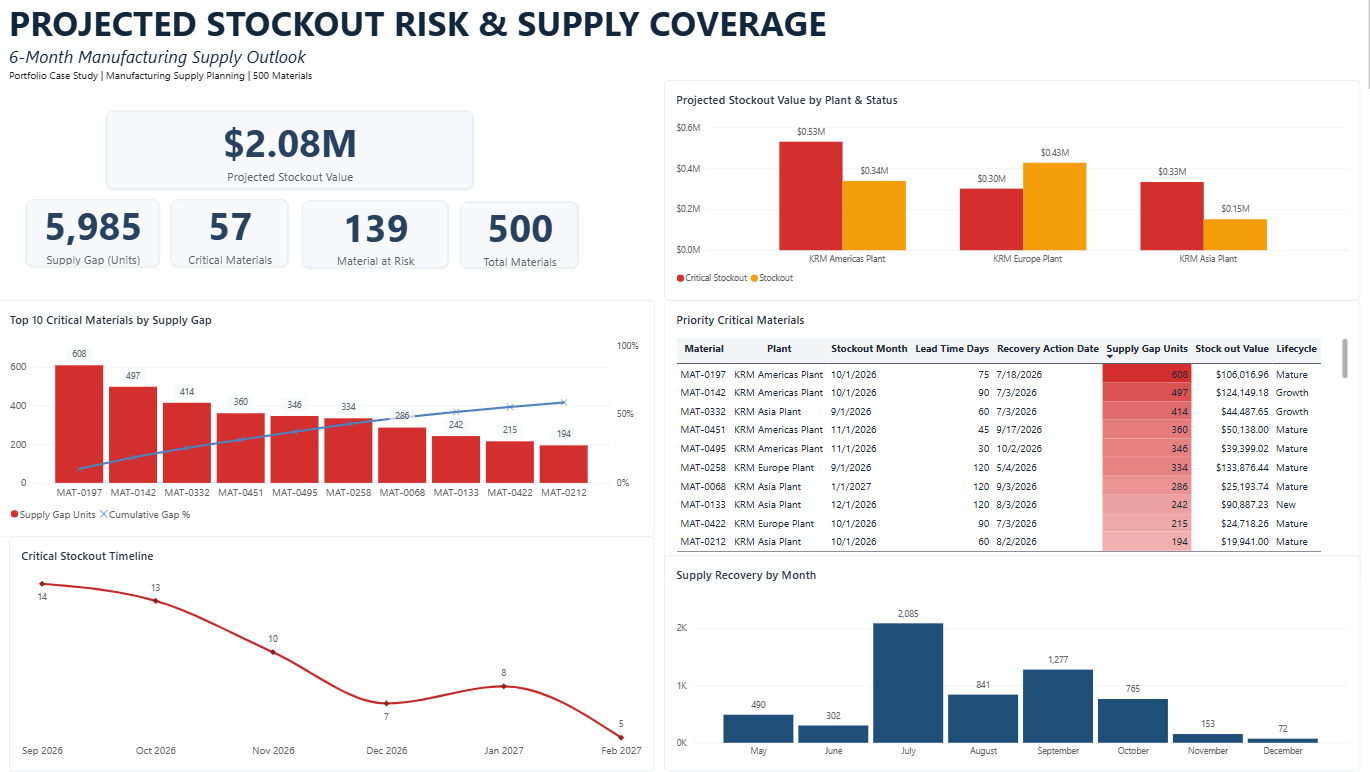

The page's visual inventory and layout, read from the dashboard file:
{"tool":"powerbi","page":{"name":"Page 1","canvas":[1920,1080],"ordinal":0},"visuals":[{"type":"cardVisual","fields":{"Data":["Count(08___Stockout_Risk_Python_Analysis.Material_ID)"]},"box":[801.7,175,223.3,90],"z":0},{"type":"cardVisual","fields":{"Data":["Sum(08___Stockout_Risk_Python_Analysis.Stockout_Value_USD)"]},"box":[1546.7,175,228.3,90],"z":1000},{"type":"cardVisual","fields":{"Data":["Sum(08___Stockout_Risk_Python_Analysis.Remaining_Shortfall_Units)"]},"box":[1300,175,188.3,90],"z":2000},{"type":"cardVisual","fields":{"Data":["Count(08___Stockout_Risk_Python_Analysis.Material_ID)"]},"box":[1081.7,175,165,90],"z":3000},{"type":"lineChart","title":"Critical Stockout Timeline","fields":{"Y":["CountNonNull(08___Stockout_Risk_Python_Analysis.Material_ID)"],"Category":["08___Stockout_Risk_Python_Analysis.First_Stockout_Month"]},"box":[15,156.7,488.3,495],"z":4000},{"type":"lineClusteredColumnComboChart","title":"Supply Gap by Critical Material","fields":{"Category":["08___Stockout_Risk_Python_Analysis.Material_ID"],"Y":["Sum(08___Stockout_Risk_Python_Analysis.Remaining_Shortfall_Units)"],"Y2":["08___Stockout_Risk_Python_Analysis.Cumulative Critical Shortfall %"]},"box":[515,286.7,848.3,365],"z":5000},{"type":"tableEx","title":"Priority Critical Materials","fields":{"Values":["08___Stockout_Risk_Python_Analysis.Material_ID","08___Stockout_Risk_Python_Analysis.Site_Name","08___Stockout_Risk_Python_Analysis.First_Stockout_Month","08___Stockout_Risk_Python_Analysis.Lead_Time_Days","08___Stockout_Risk_Python_Analysis.Recovery_Action_Date","Sum(08___Stockout_Risk_Python_Analysis.Remaining_Shortfall_Units)","Sum(08___Stockout_Risk_Python_Analysis.Stockout_Value_USD)","08___Stockout_Risk_Python_Analysis.Lifecycle"]},"box":[15,663.3,945,376.7],"z":6000},{"type":"textbox","box":[30,0,1173.3,156.7],"z":7000},{"type":"clusteredColumnChart","title":"Stockout Value Exposure by Plant","fields":{"Category":["08___Stockout_Risk_Python_Analysis.Site_Name"],"Y":["Sum(08___Stockout_Risk_Python_Analysis.Stockout_Value_USD)"],"Series":["08___Stockout_Risk_Python_Analysis.Stockout_Status"]},"box":[1375,286.7,515,365],"z":8000},{"type":"cardVisual","fields":{"Data":["08___Stockout_Risk_Python_Analysis.Total Portfolio Materials"]},"box":[575,175,165,90],"z":9000},{"type":"clusteredColumnChart","title":"Supply  Recovery Timing","fields":{"Category":["08___Stockout_Risk_Python_Analysis.Recovery_Action_Date.Variation.Date Hierarchy.Year","08___Stockout_Risk_Python_Analysis.Recovery_Action_Date.Variation.Date Hierarchy.Quarter","08___Stockout_Risk_Python_Analysis.Recovery_Action_Date.Variation.Date Hierarchy.Month","08___Stockout_Risk_Python_Analysis.Recovery_Action_Date.Variation.Date Hierarchy.Day"],"Y":["Sum(08___Stockout_Risk_Python_Analysis.Remaining_Shortfall_Units)"]},"box":[1040,663.3,850,376.7],"z":10000}]}

Visuals, with their boxes in screenshot pixels (x1, y1, x2, y2), scaled from the page's 1920x1080 canvas onto the 1370x772 screenshot:
cardVisual - Count(08___Stockout_Risk_Python_Analysis.Material_ID): 572/125/731/189
cardVisual - Sum(08___Stockout_Risk_Python_Analysis.Stockout_Value_USD): 1104/125/1267/189
cardVisual - Sum(08___Stockout_Risk_Python_Analysis.Remaining_Shortfall_Units): 928/125/1062/189
cardVisual - Count(08___Stockout_Risk_Python_Analysis.Material_ID): 772/125/890/189
"Critical Stockout Timeline" lineChart: 11/112/359/466
"Supply Gap by Critical Material" lineClusteredColumnComboChart: 367/205/973/466
"Priority Critical Materials" tableEx: 11/474/685/743
textbox: 21/0/859/112
"Stockout Value Exposure by Plant" clusteredColumnChart: 981/205/1349/466
cardVisual - 08___Stockout_Risk_Python_Analysis.Total Portfolio Materials: 410/125/528/189
"Supply  Recovery Timing" clusteredColumnChart: 742/474/1349/743
